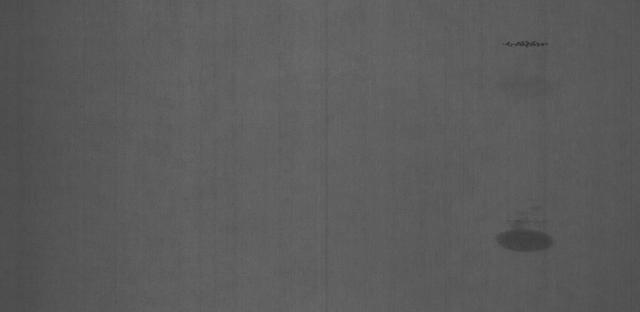oil_spot: (481, 216, 567, 265), (494, 33, 555, 54)
